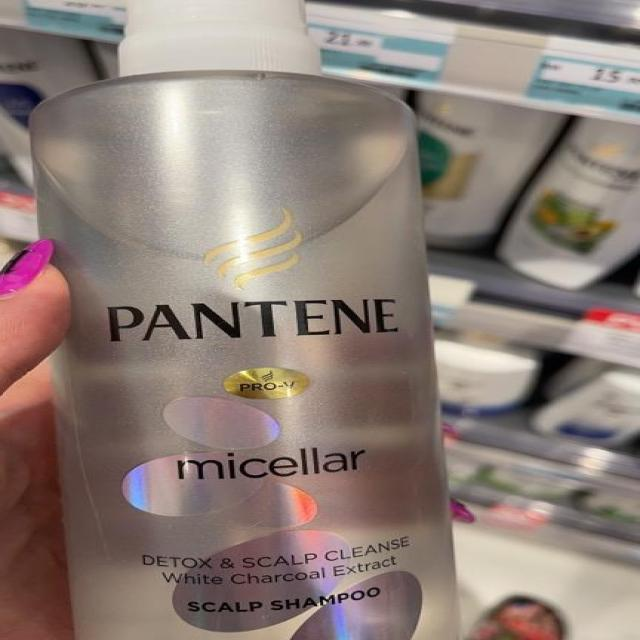plastic: (26, 0, 468, 640)
